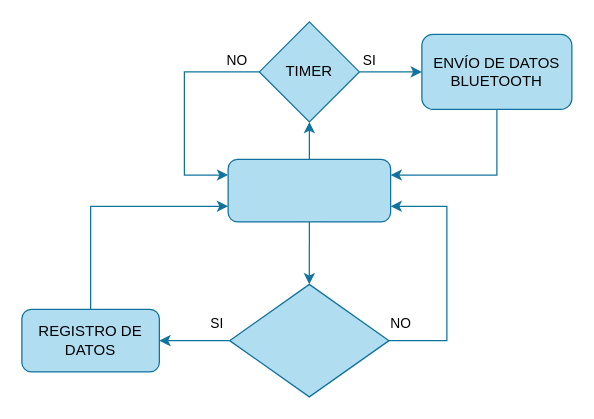
The diagram is 594 pixels wide and 419 high, and some of its shapes have lost their labels. Here are the shapes that lost their labels. From the top down, the centre of each, then its label:
the point at 309,190: MODO LOW POWER
the point at 308,340: INTERRUPCIÓN ACTIVIDAD
